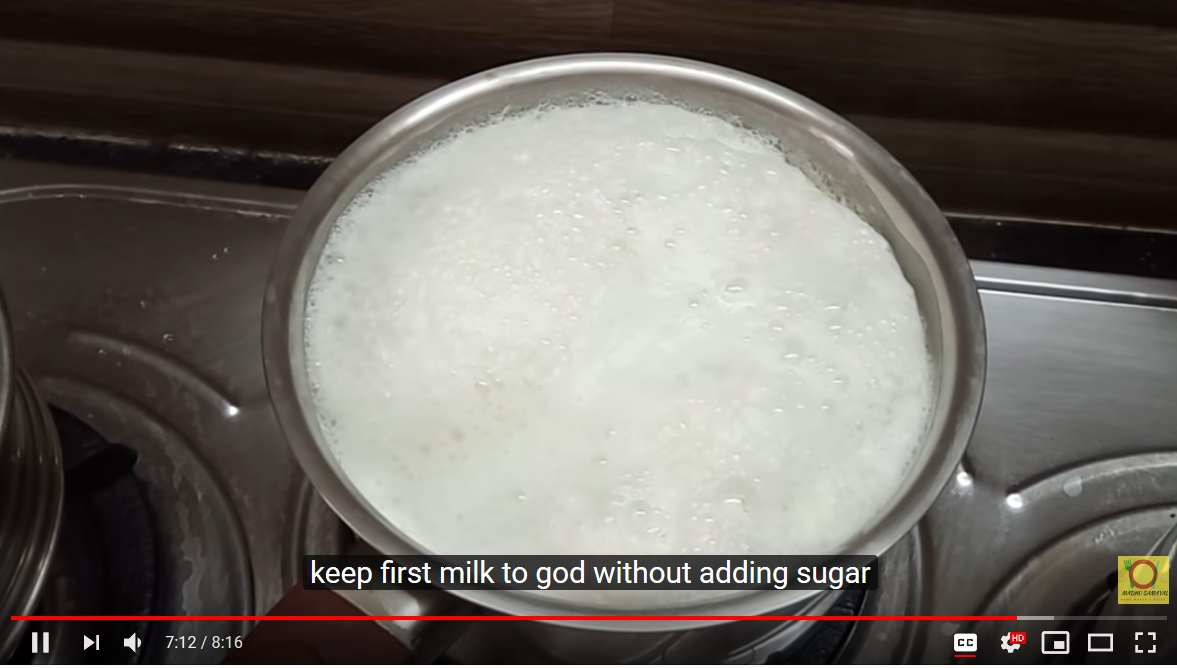Steaming: (271, 54, 945, 606)
